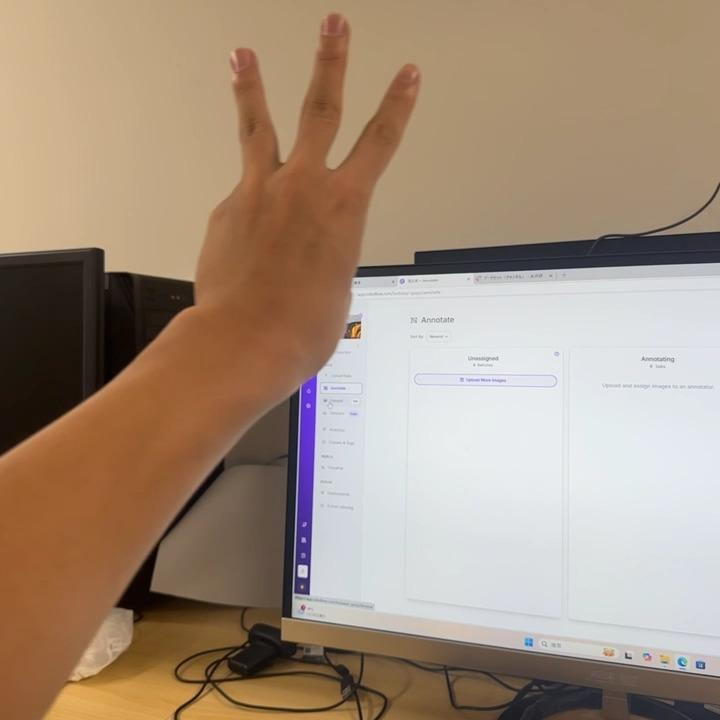without_gloves: (167, 0, 476, 387)
